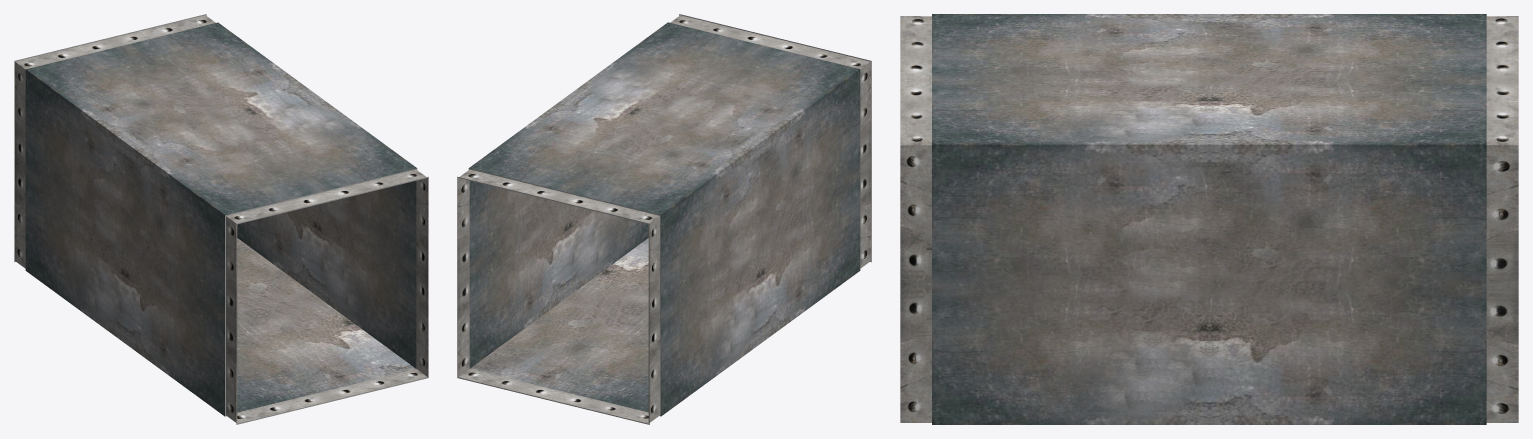
Rendered from vent01.fbx.
The picture shows the model from 3 angles, left to right: view 1: azimuth 30°, elevation 25°; view 2: azimuth 150°, elevation 25°; view 3: azimuth 270°, elevation 25°; orthographic projection. The views are drawn at different scales.
Parts seen in each view (by area): view 1: pPlane1; view 2: pPlane1; view 3: pPlane1.
Part boxes in pixels (x1,y1,x2,y2): pPlane1: (14,14,428,424); pPlane1: (457,14,871,424); pPlane1: (900,14,1518,424).
Size of the model in its own units: 1 by 1 by 2.
